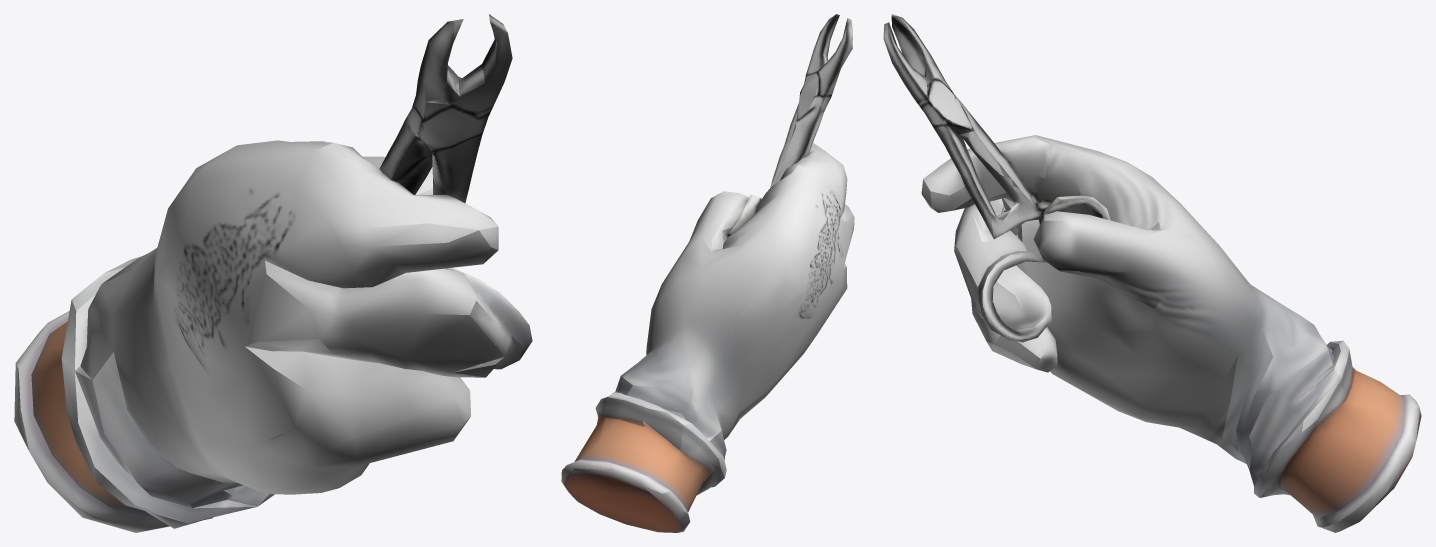
File: GhostHandForceps.glb
3 views of the same model, side by side, from view 1: azimuth 30°, elevation 25°; view 2: azimuth 150°, elevation 25°; view 3: azimuth 270°, elevation 25° (orthographic). The views are drawn at different scales.
Parts seen in each view (by area): view 1: geometry_0; view 2: geometry_0; view 3: geometry_0.
Boxes of the visible parts, box(x1,y1,x2,y2) form: geometry_0: box(14, 14, 532, 532); geometry_0: box(561, 14, 854, 532); geometry_0: box(883, 14, 1421, 532).
Bounding box in the file's own units: 0.0841 × 0.219 × 0.22.
Materials: 1 (1 with a texture image).
